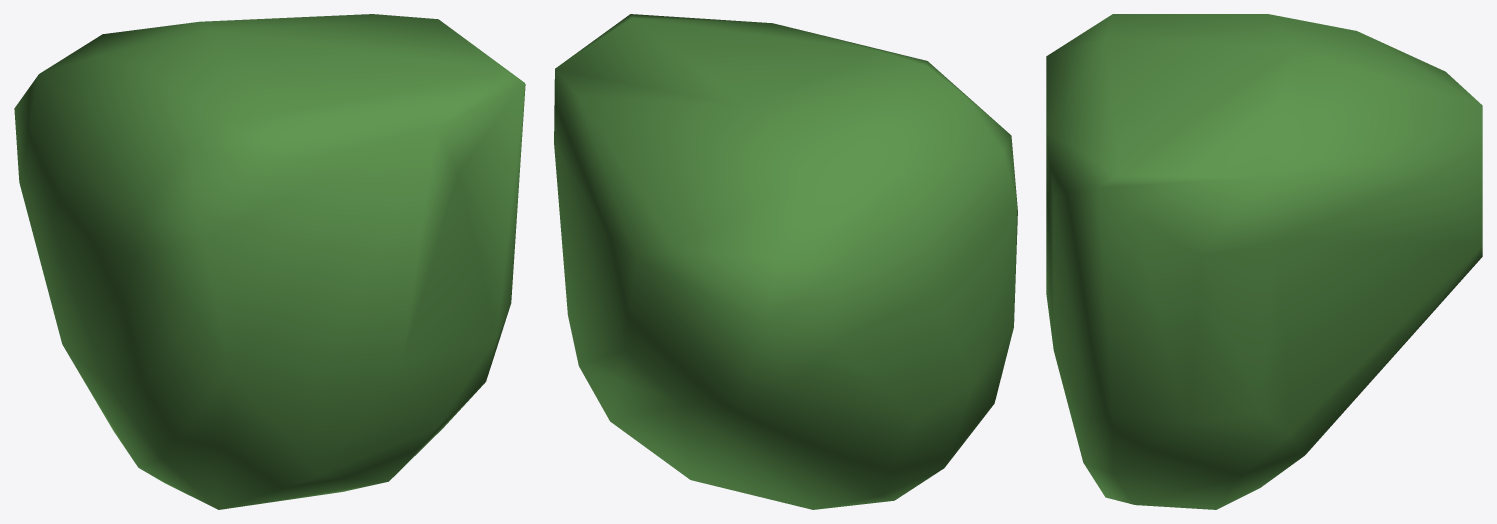
The picture shows the model from 3 angles, left to right: view 1: azimuth 30°, elevation 25°; view 2: azimuth 150°, elevation 25°; view 3: azimuth 270°, elevation 25°; orthographic projection. The views are drawn at different scales.
Bounding box in the file's own units: 0.103 × 0.1014 × 0.095.
